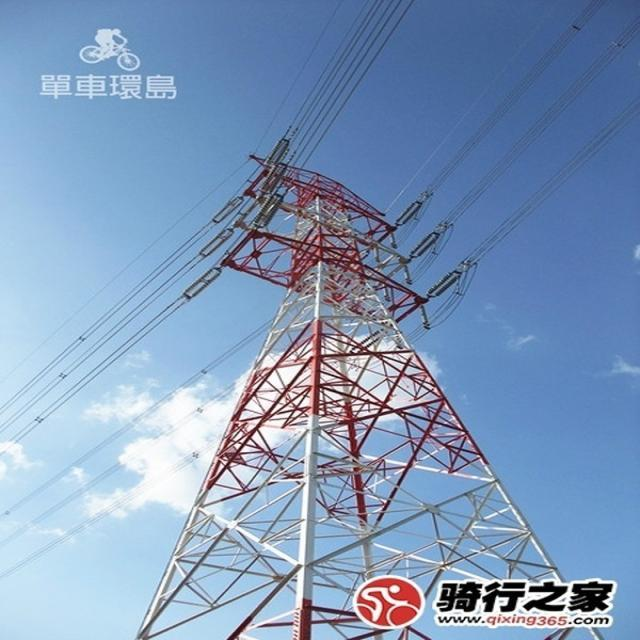non-critical vegetation: (163, 142, 602, 632)
